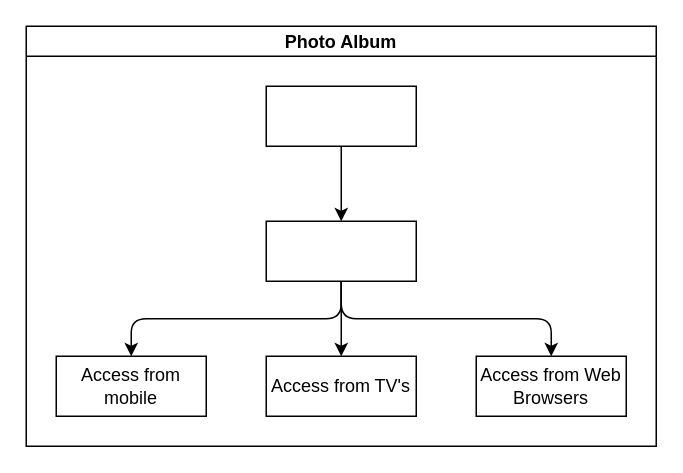
Image size: 683x473. Some labels were removed from this diagram. Each missing label, with the box of its shape:
Local Storage: (265, 220, 416, 281)
Photo Album Edit with AI: (265, 85, 416, 146)
